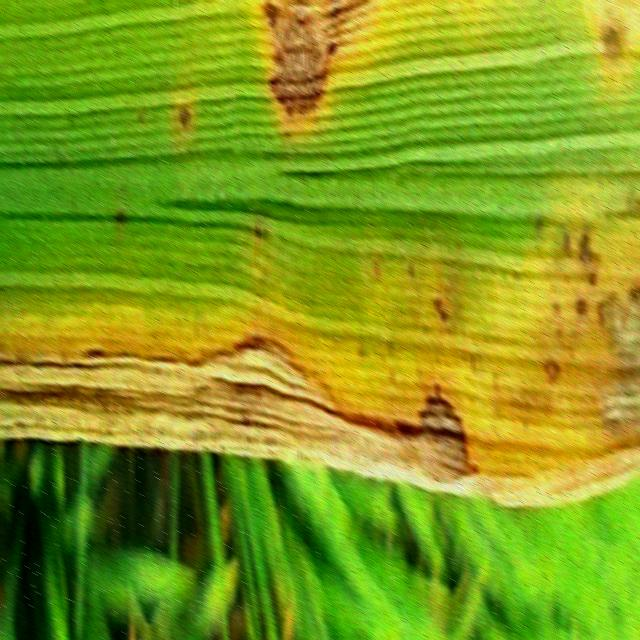LEAF BLAST: (0, 325, 478, 480), (265, 0, 355, 116), (596, 282, 640, 373), (599, 373, 640, 436)
